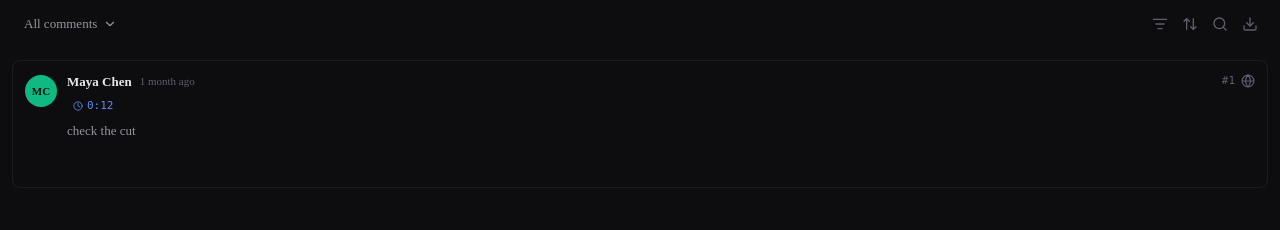
Test case: which asset the export acts on › treats an explicit null as "nothing selected", not as "ask the store"
Step 1. Click the button titled "Export comments" → [1250, 24], box [1236,10,1264,38]
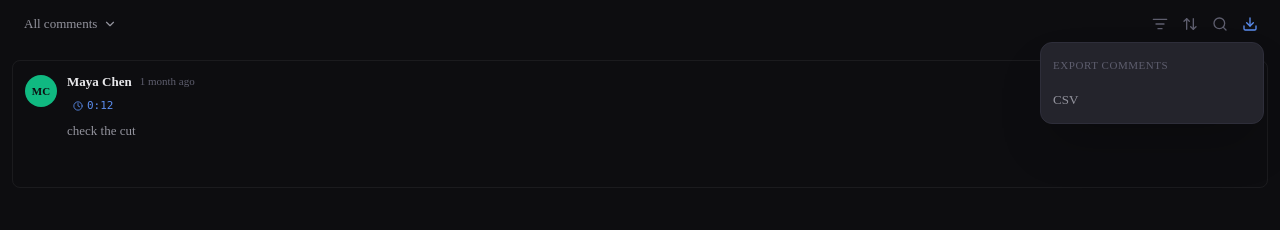
Step 2. Click the button "CSV" → [1152, 99], box [1041,82,1263,117]
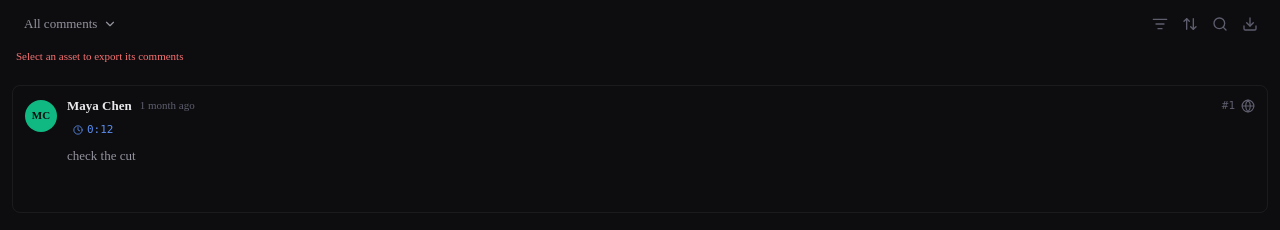
Result: the text "Select an asset to export its comments" is shown at [16,50,183,62]
